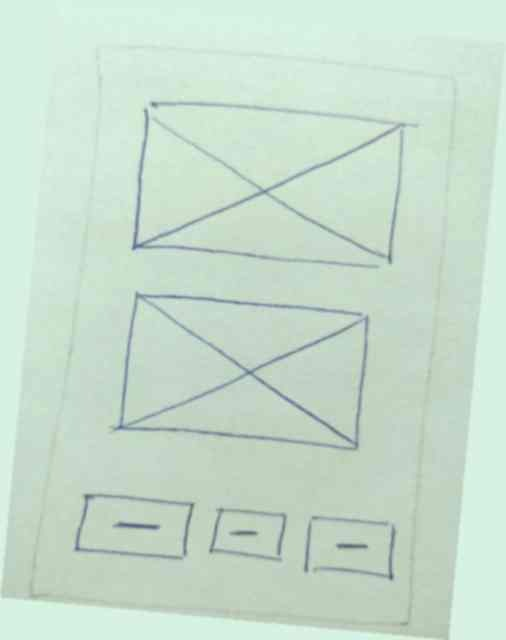button: (70, 480, 202, 570), (295, 501, 406, 589), (201, 496, 295, 573)
image: (122, 86, 420, 280), (101, 280, 389, 461)
